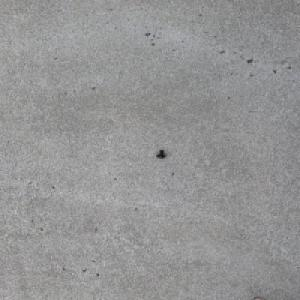BoltWasher: (155, 149, 166, 159)
